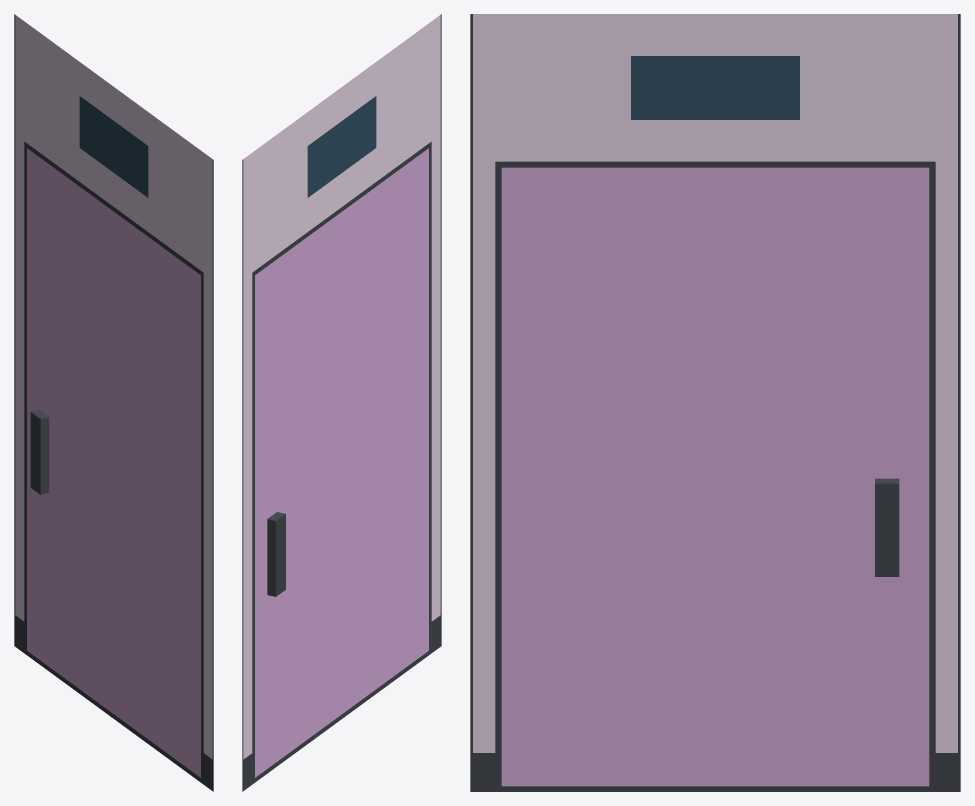
Rendered from WallDoor.fbx.
3 renders of one model, left to right at view 1: azimuth 30°, elevation 25°; view 2: azimuth 150°, elevation 25°; view 3: azimuth 270°, elevation 25°, orthographic. The views are drawn at different scales.
Parts seen in each view (by area): view 1: Wall Door; view 2: Wall Door; view 3: Wall Door.
Boxes of the visible parts, x1=… form: Wall Door: x1=14, y1=14, x2=213, y2=791; Wall Door: x1=242, y1=14, x2=441, y2=791; Wall Door: x1=470, y1=14, x2=960, y2=791.
Size of the model in its own units: 0.2 by 7 by 4.
